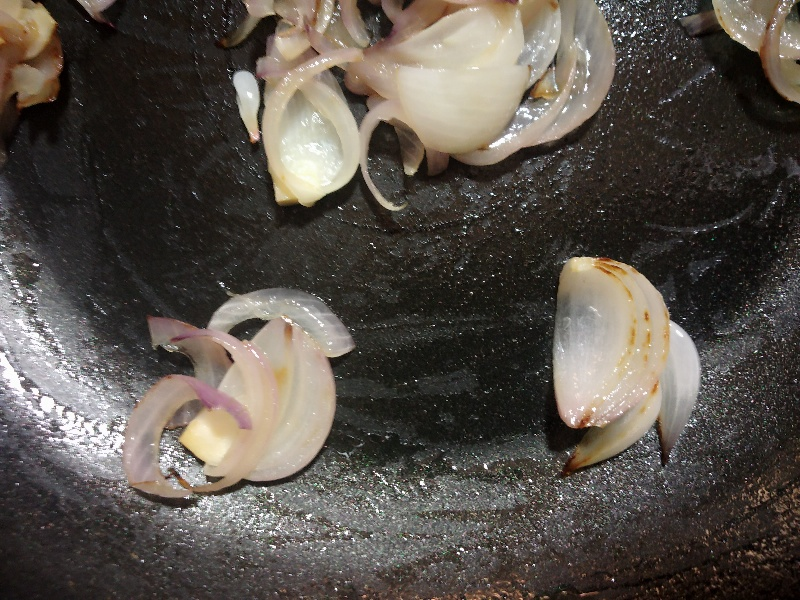onion_golden: (554, 250, 712, 476)
